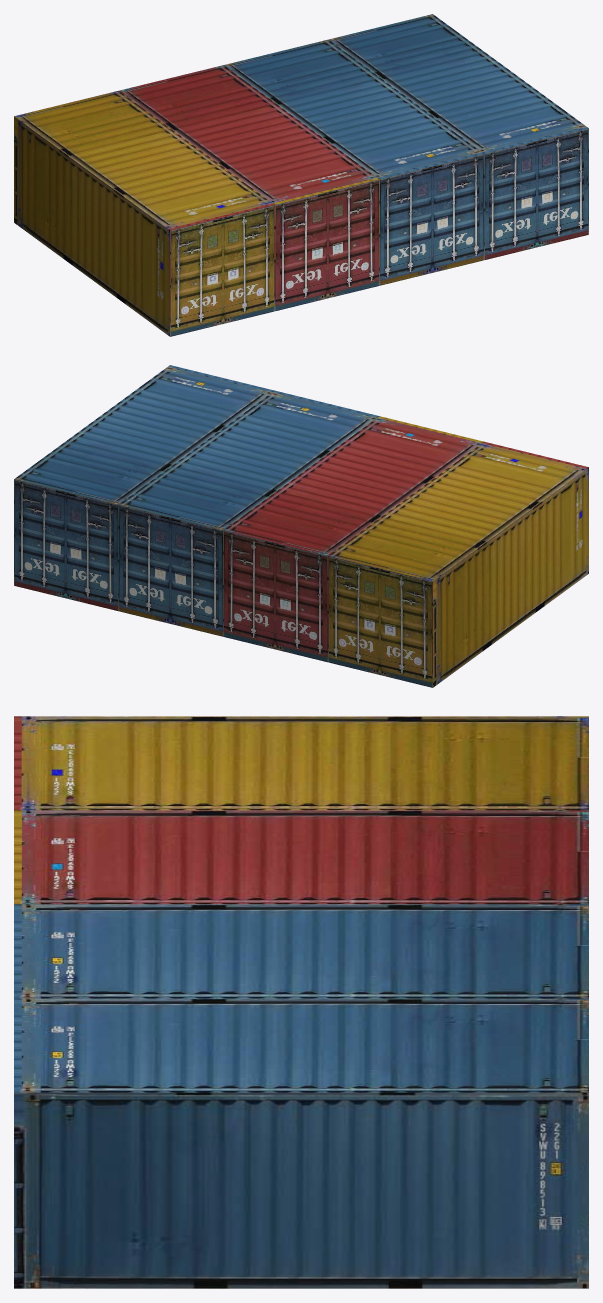
Rendered from Container.fbx.
3 renders of one model, top to bottom at view 1: azimuth 30°, elevation 25°; view 2: azimuth 150°, elevation 25°; view 3: azimuth 270°, elevation 25°, orthographic. The views are drawn at different scales.
Visible parts, largest first — view 1: polySurface3; view 2: polySurface3; view 3: polySurface3.
Boxes of the visible parts, x1=… form: polySurface3: x1=14, y1=14, x2=588, y2=336; polySurface3: x1=14, y1=365, x2=588, y2=687; polySurface3: x1=14, y1=716, x2=588, y2=1288.
Size of the model in its own units: 25.79 by 6.26 by 16.65.
Materials: 1 (1 with a texture image).
